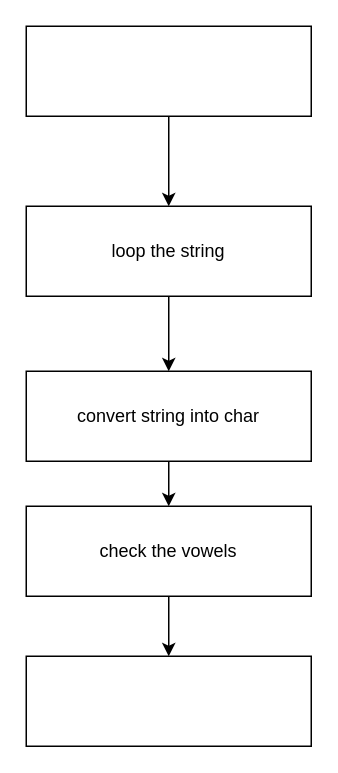
Some shapes in this 338 by 773 pixel diagram are drawn without their labels. The centre of each missing label's shape, as x and y in pixels:
pass any string in function: [168,70]
print the count: [168,700]
